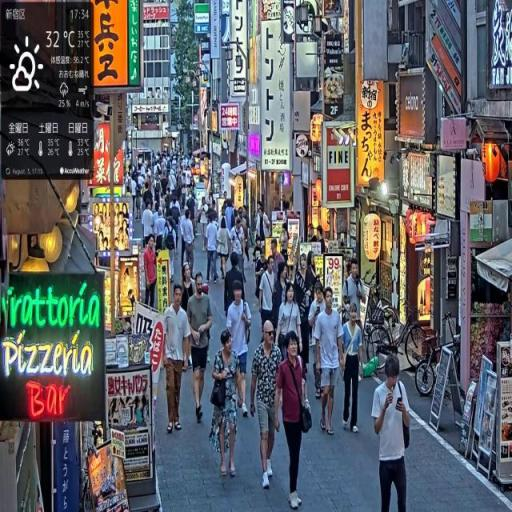person: (275, 330, 315, 511), (372, 353, 412, 512), (251, 319, 285, 496), (210, 328, 245, 481), (313, 288, 347, 437), (163, 285, 192, 435), (188, 271, 215, 426), (227, 278, 254, 417), (340, 303, 366, 435), (277, 285, 303, 363), (309, 283, 326, 400), (225, 251, 247, 317), (205, 213, 221, 285), (145, 237, 160, 312), (182, 209, 197, 275), (218, 218, 232, 283)
